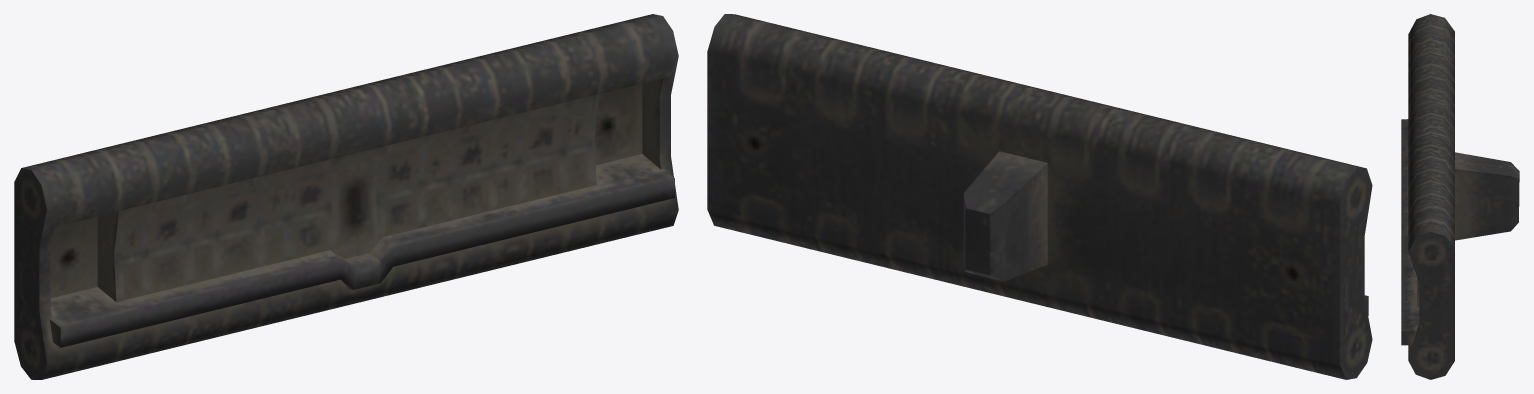
3 renders of one model, left to right at view 1: azimuth 30°, elevation 25°; view 2: azimuth 150°, elevation 25°; view 3: azimuth 270°, elevation 25°, orthographic. The views are drawn at different scales.
Visible parts, largest first — view 1: set_0_group_0; view 2: set_0_group_0; view 3: set_0_group_0.
Boxes of the visible parts, x1=… form: set_0_group_0: x1=14, y1=14, x2=678, y2=379; set_0_group_0: x1=707, y1=14, x2=1372, y2=379; set_0_group_0: x1=1401, y1=14, x2=1519, y2=379.
Bounding box in the file's own units: 0.6458 × 0.2048 × 0.148.
Materials: 1 (1 with a texture image).
